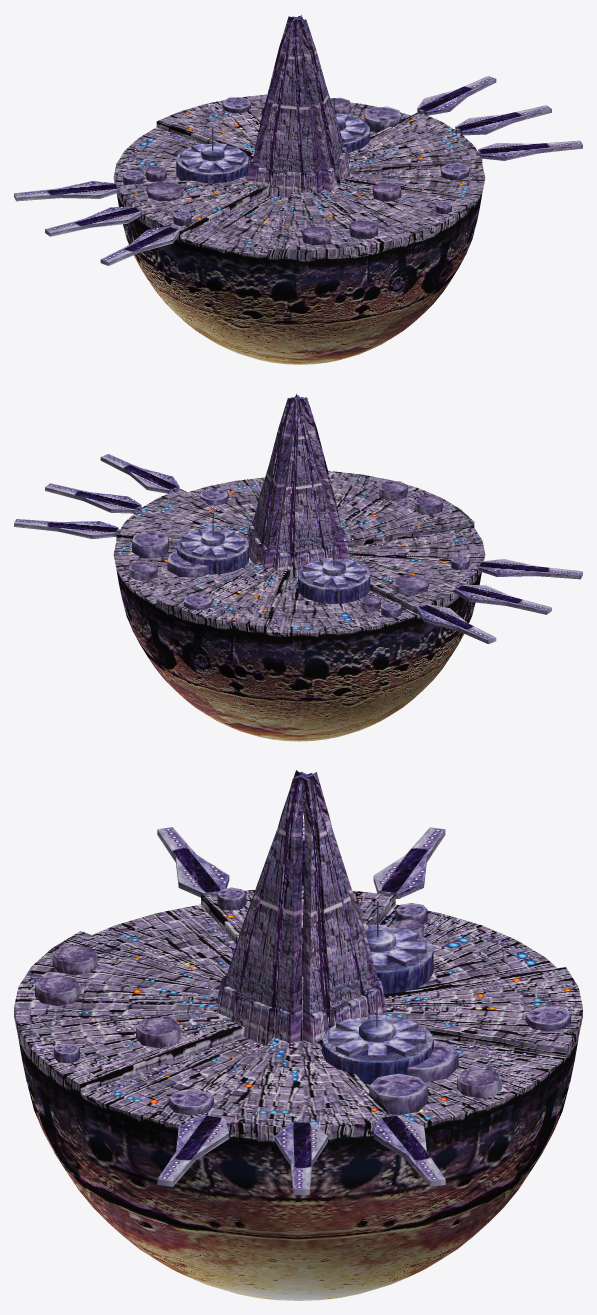
Rendered from ARK.obj.
The picture shows the model from 3 angles, top to bottom: view 1: azimuth 30°, elevation 25°; view 2: azimuth 150°, elevation 25°; view 3: azimuth 270°, elevation 25°; orthographic projection. The views are drawn at different scales.
Bounding box in the file's own units: 18058 × 11194 × 11644.
3 materials, 3 textured.
